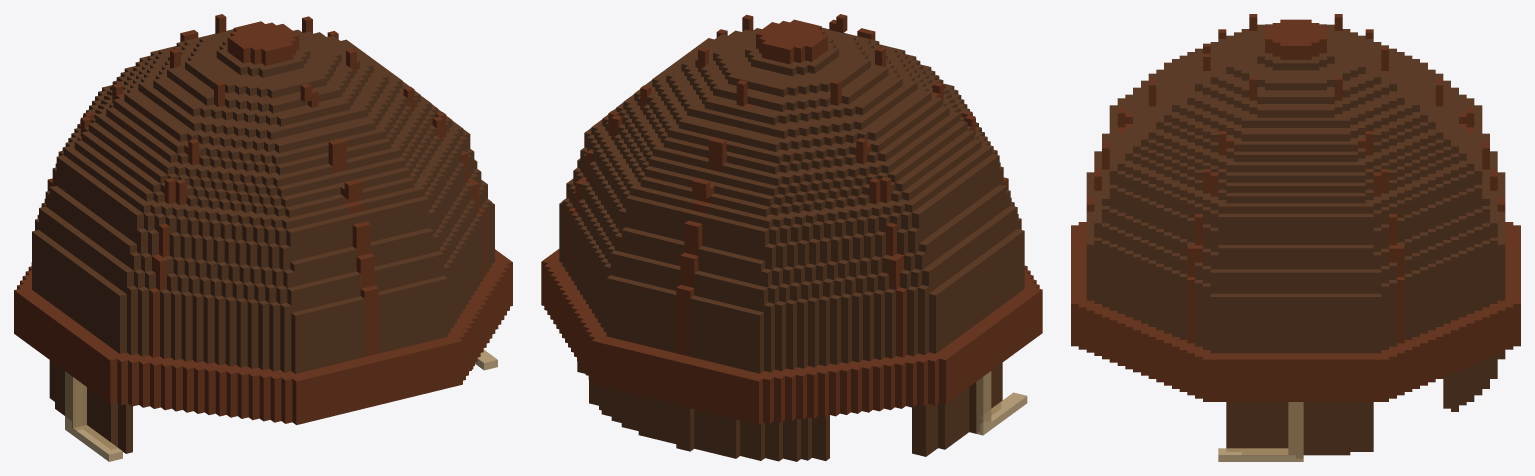
File: helmet_larmor.glb
3 renders of one model, left to right at view 1: azimuth 30°, elevation 25°; view 2: azimuth 150°, elevation 25°; view 3: azimuth 270°, elevation 25°, orthographic. The views are drawn at different scales.
Parts seen in each view (by area): view 1: helmet_larmor:compound; view 2: helmet_larmor:compound; view 3: helmet_larmor:compound.
Part boxes in pixels (x1,y1,x2,y2): helmet_larmor:compound: (14, 14, 512, 461); helmet_larmor:compound: (541, 14, 1042, 461); helmet_larmor:compound: (1071, 14, 1520, 461).
Size of the model in its own units: 0.232 by 0.192 by 0.232.
